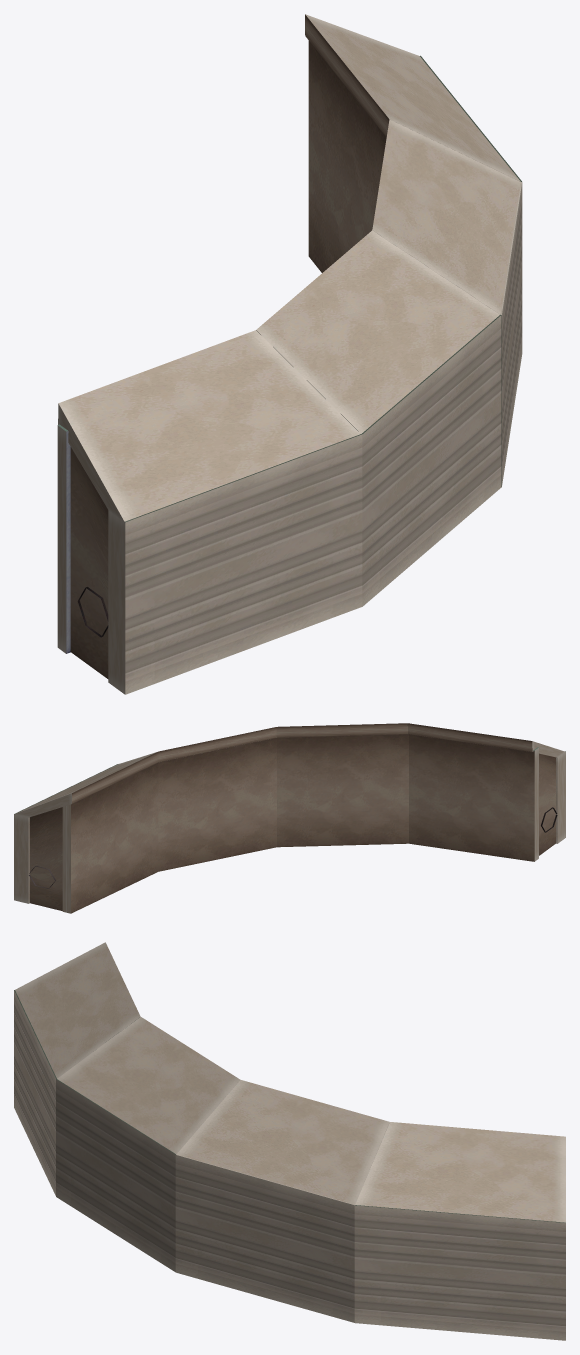
The model's file is RangerCover.gltf.
3 renders of one model, top to bottom at view 1: azimuth 30°, elevation 25°; view 2: azimuth 150°, elevation 25°; view 3: azimuth 270°, elevation 25°, orthographic. The views are drawn at different scales.
Parts seen in each view (by area): view 1: ModelObject; view 2: ModelObject; view 3: ModelObject.
Part boxes in pixels (bbox=[...]): ModelObject: bbox=[57, 14, 522, 694]; ModelObject: bbox=[14, 723, 565, 913]; ModelObject: bbox=[14, 942, 565, 1340].
Bounding box in the file's own units: 3.02 × 0.9953 × 3.01.
41 materials, 41 textured.
